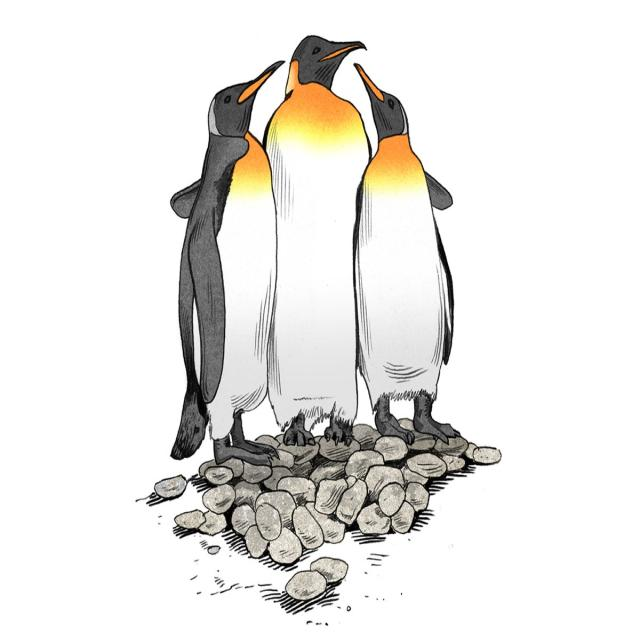penguin: (171, 61, 284, 464), (255, 36, 371, 425), (354, 63, 459, 440)
